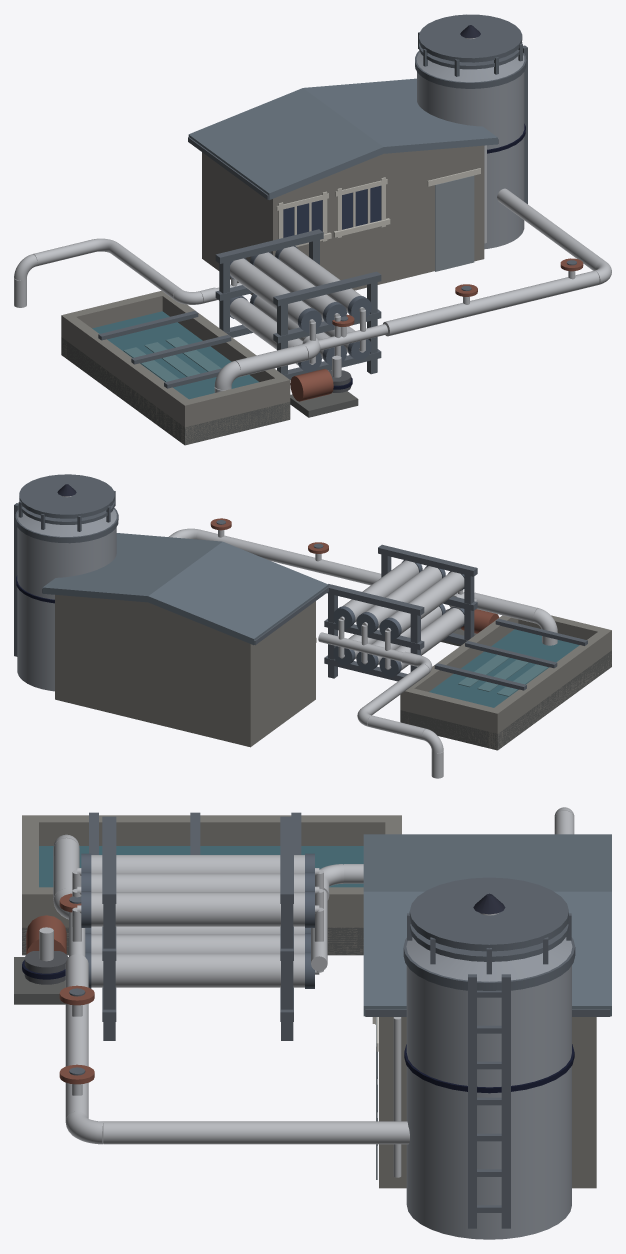
The model's file is desal_lvl1.glb.
3 views of the same model, one above another, from view 1: azimuth 30°, elevation 25°; view 2: azimuth 150°, elevation 25°; view 3: azimuth 270°, elevation 25° (orthographic). The views are drawn at different scales.
Parts seen in each view (by area): view 1: desal; view 2: desal; view 3: desal.
Part boxes in pixels (<box>): desal: <box>14,14,611,445</box>; desal: <box>14,474,611,778</box>; desal: <box>14,807,611,1239</box>.
Bounding box in the file's own units: 1 × 0.3944 × 0.6902.
